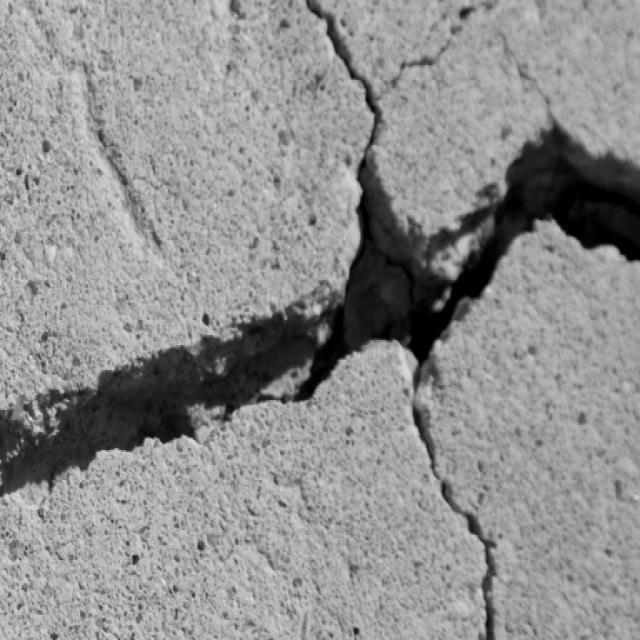SurfaceCrack: (1, 0, 488, 638)
